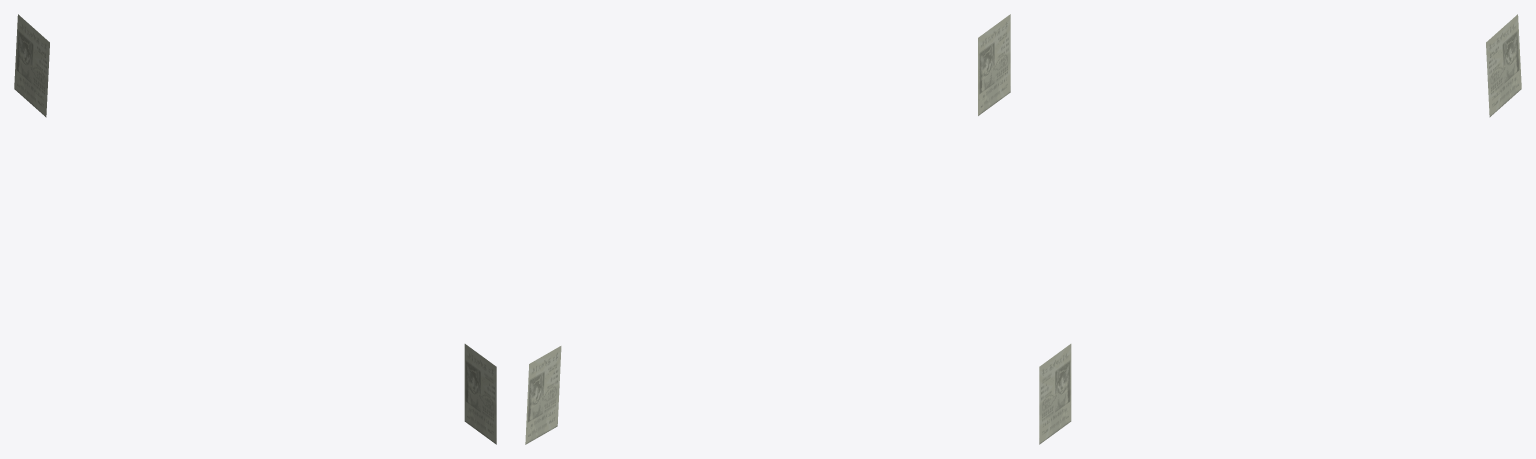
File: kd_stage_135c43_0_10.glb
The picture shows the model from 3 angles, left to right: view 1: azimuth 30°, elevation 25°; view 2: azimuth 150°, elevation 25°; view 3: azimuth 330°, elevation 25°; orthographic projection.
Parts seen in each view (by area): view 1: kd_stage_135c43_0_10; view 2: kd_stage_135c43_0_10; view 3: kd_stage_135c43_0_10.
Boxes of the visible parts, x1,y1,x2,y2 form: kd_stage_135c43_0_10: (14,14,496,444); kd_stage_135c43_0_10: (525,14,1010,444); kd_stage_135c43_0_10: (1039,14,1521,444).
Bounding box in the file's own units: 0 × 0.6096 × 6.44.
Materials: 1 (1 with a texture image).
